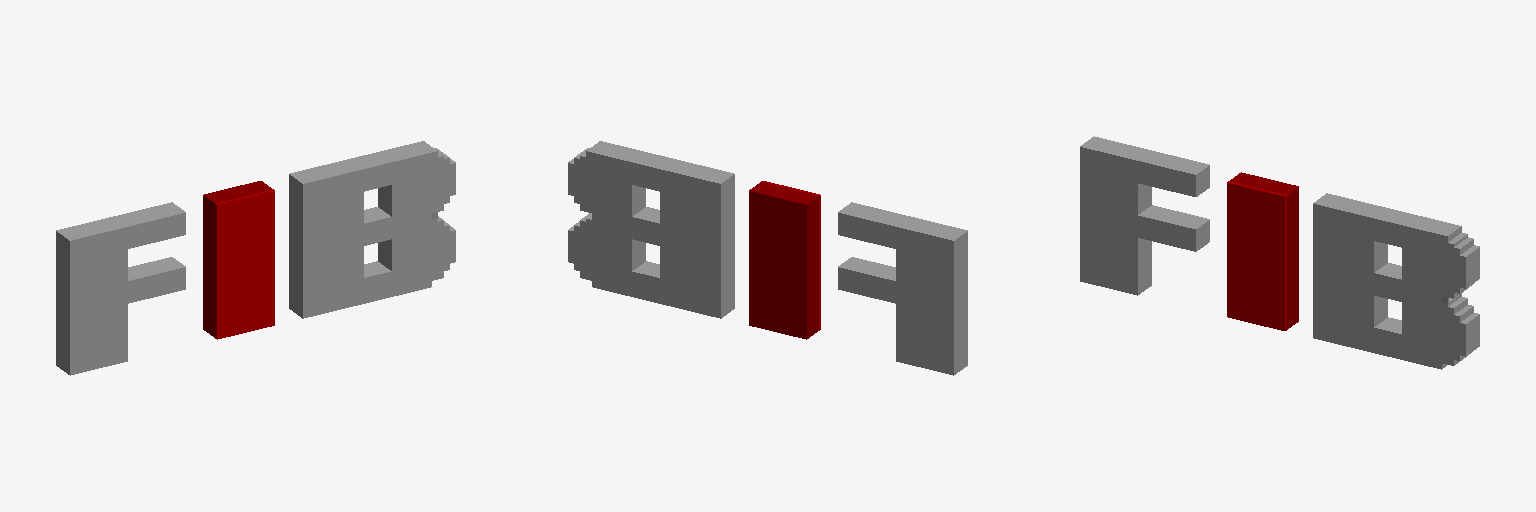
The picture shows the model from 3 angles: view 1: azimuth 30°, elevation 25°; view 2: azimuth 150°, elevation 25°; view 3: azimuth 330°, elevation 25°; orthographic projection.
Size of the model in its own units: 12.6 by 4.2 by 0.8.
1 materials, 1 textured.